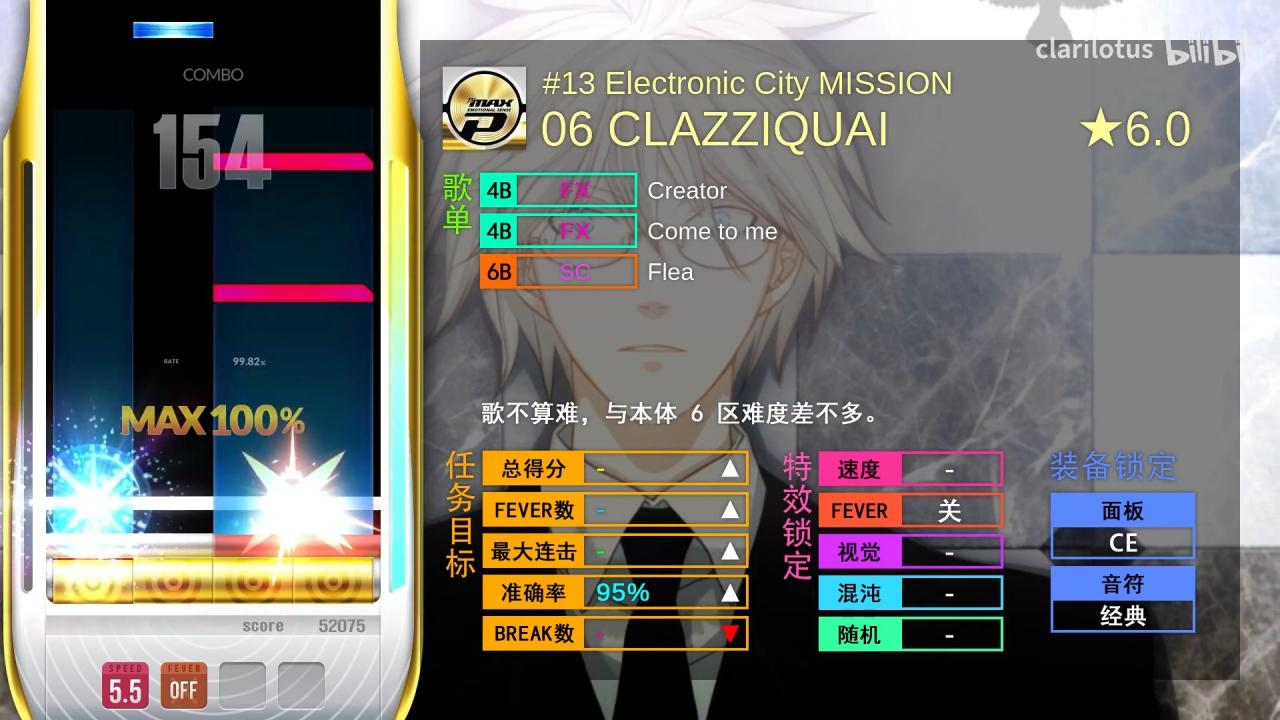xnote: (213, 283, 374, 302), (214, 153, 374, 170)
